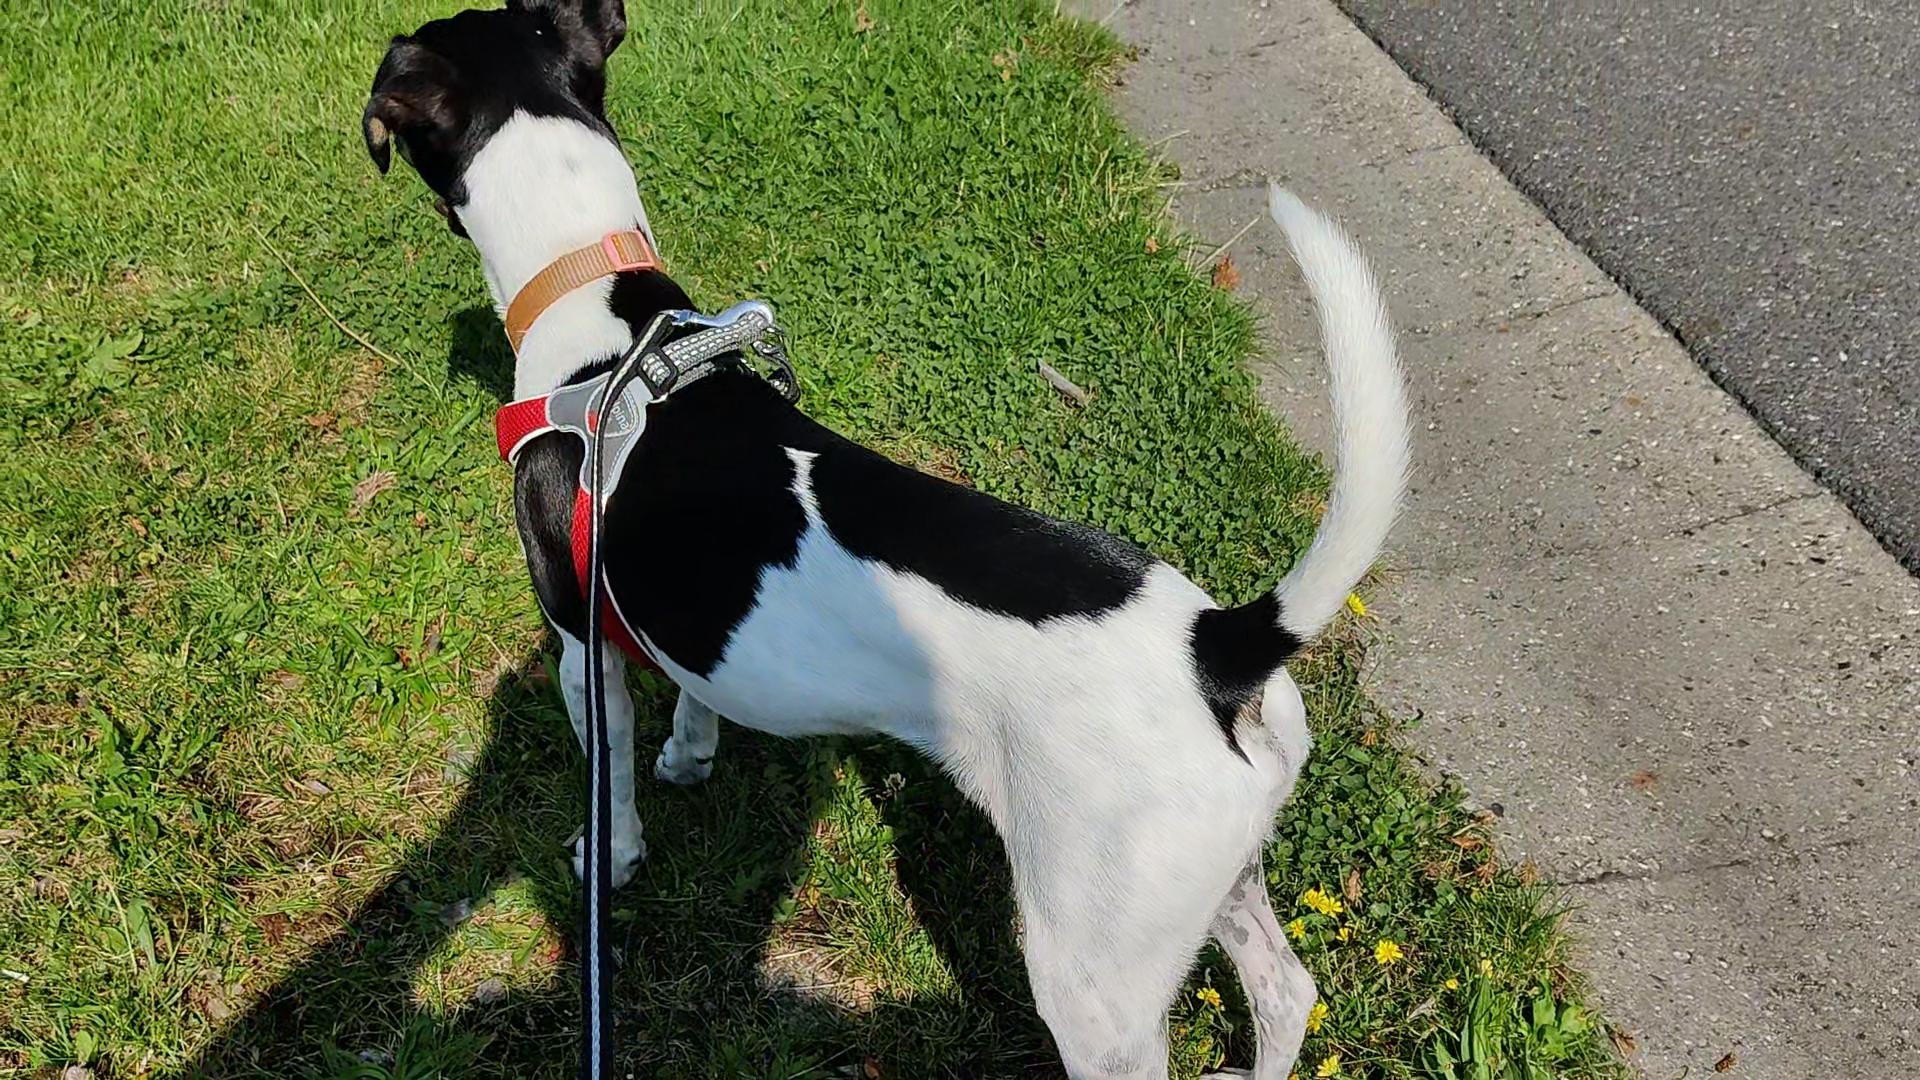Dog: (352, 0, 1424, 1080)
